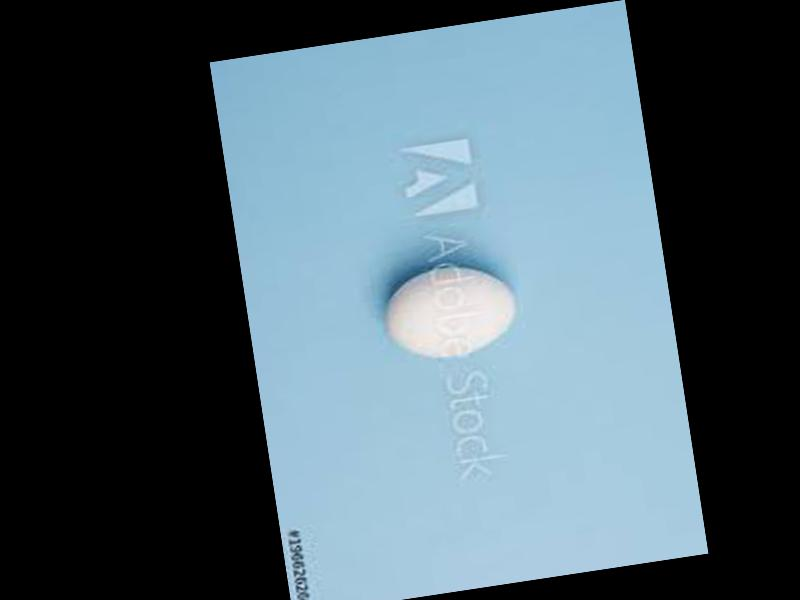Eggs: (380, 259, 518, 364)
